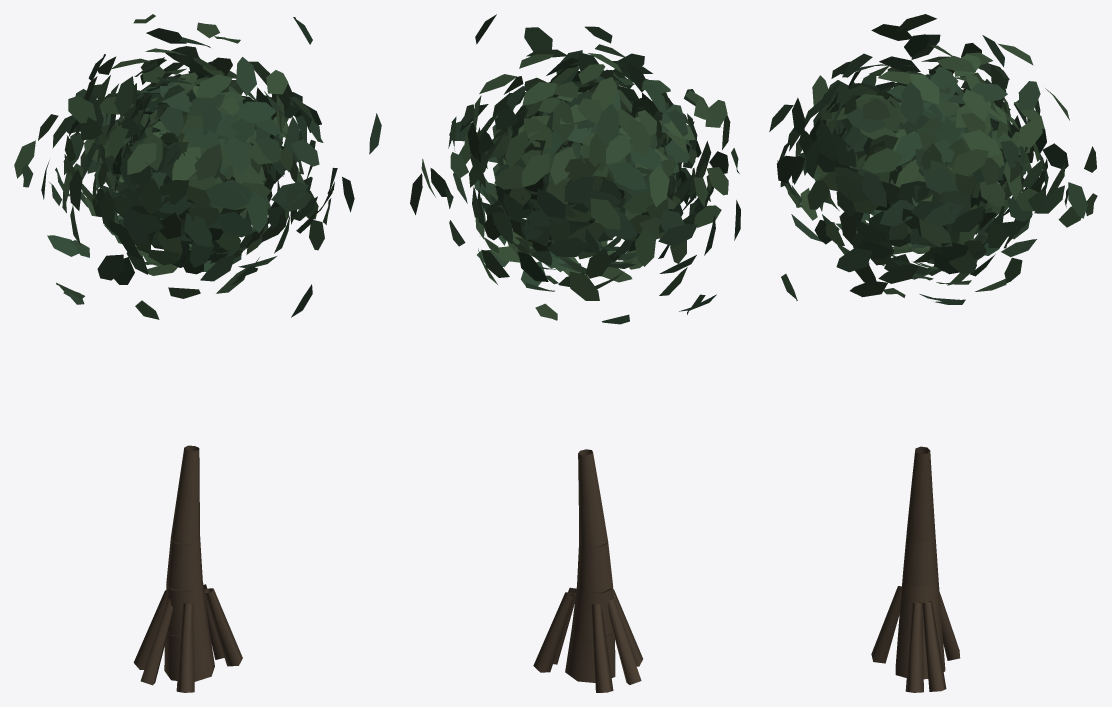
The model's file is cypress_2.glb.
3 views of the same model, side by side, from view 1: azimuth 30°, elevation 25°; view 2: azimuth 150°, elevation 25°; view 3: azimuth 270°, elevation 25° (orthographic).
Visible parts, largest first — view 1: cypress_2_LOD0; view 2: cypress_2_LOD0; view 3: cypress_2_LOD0.
Part boxes in pixels (bbox=[...]): cypress_2_LOD0: bbox=[14, 14, 381, 692]; cypress_2_LOD0: bbox=[410, 14, 740, 692]; cypress_2_LOD0: bbox=[769, 14, 1097, 692].
Size of what is drawn, in the model's own units: 0.5403 by 1.21 by 0.563.
